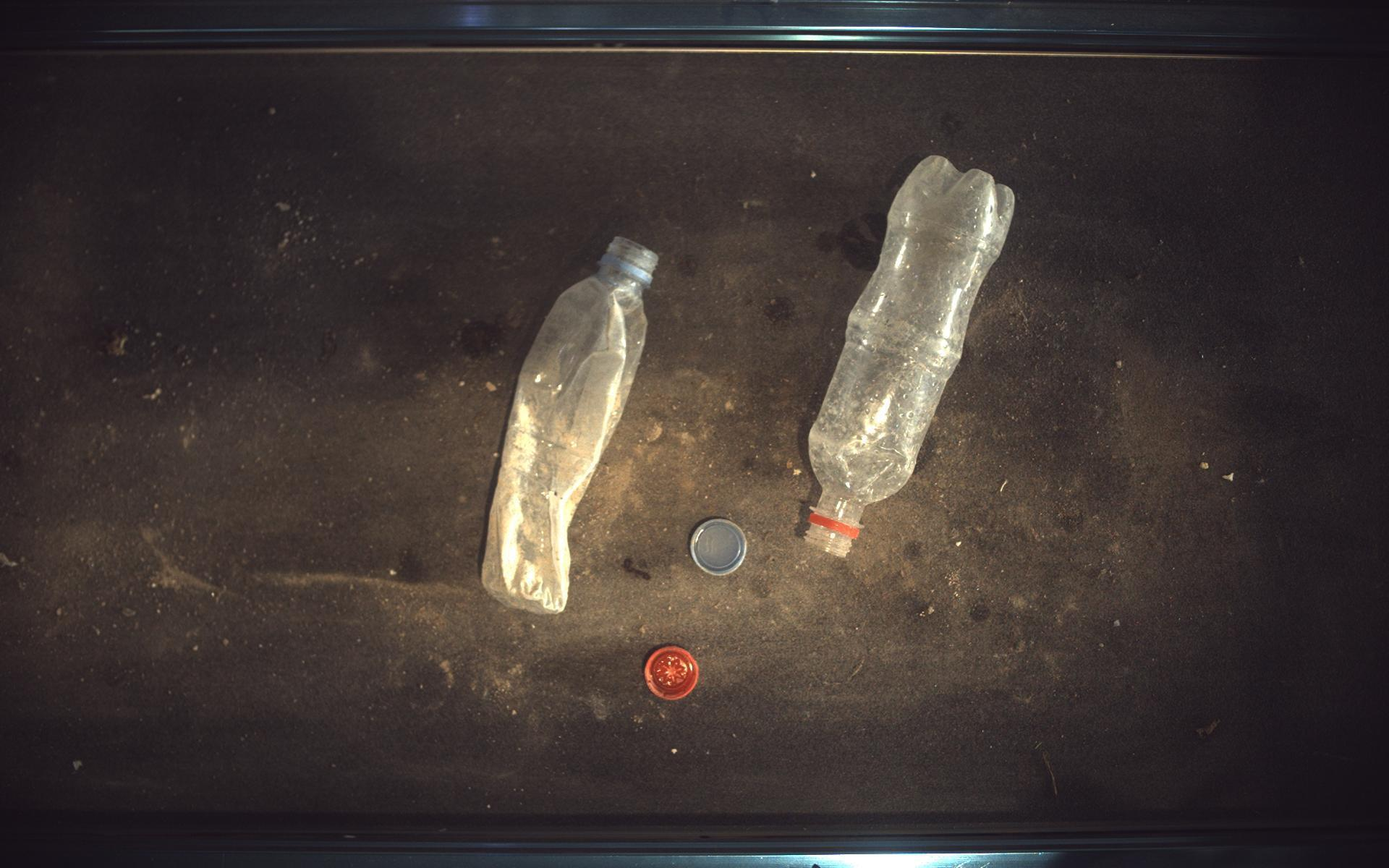general_w: (807, 155, 1016, 557), (482, 237, 659, 614), (691, 519, 748, 576), (645, 647, 700, 702)
